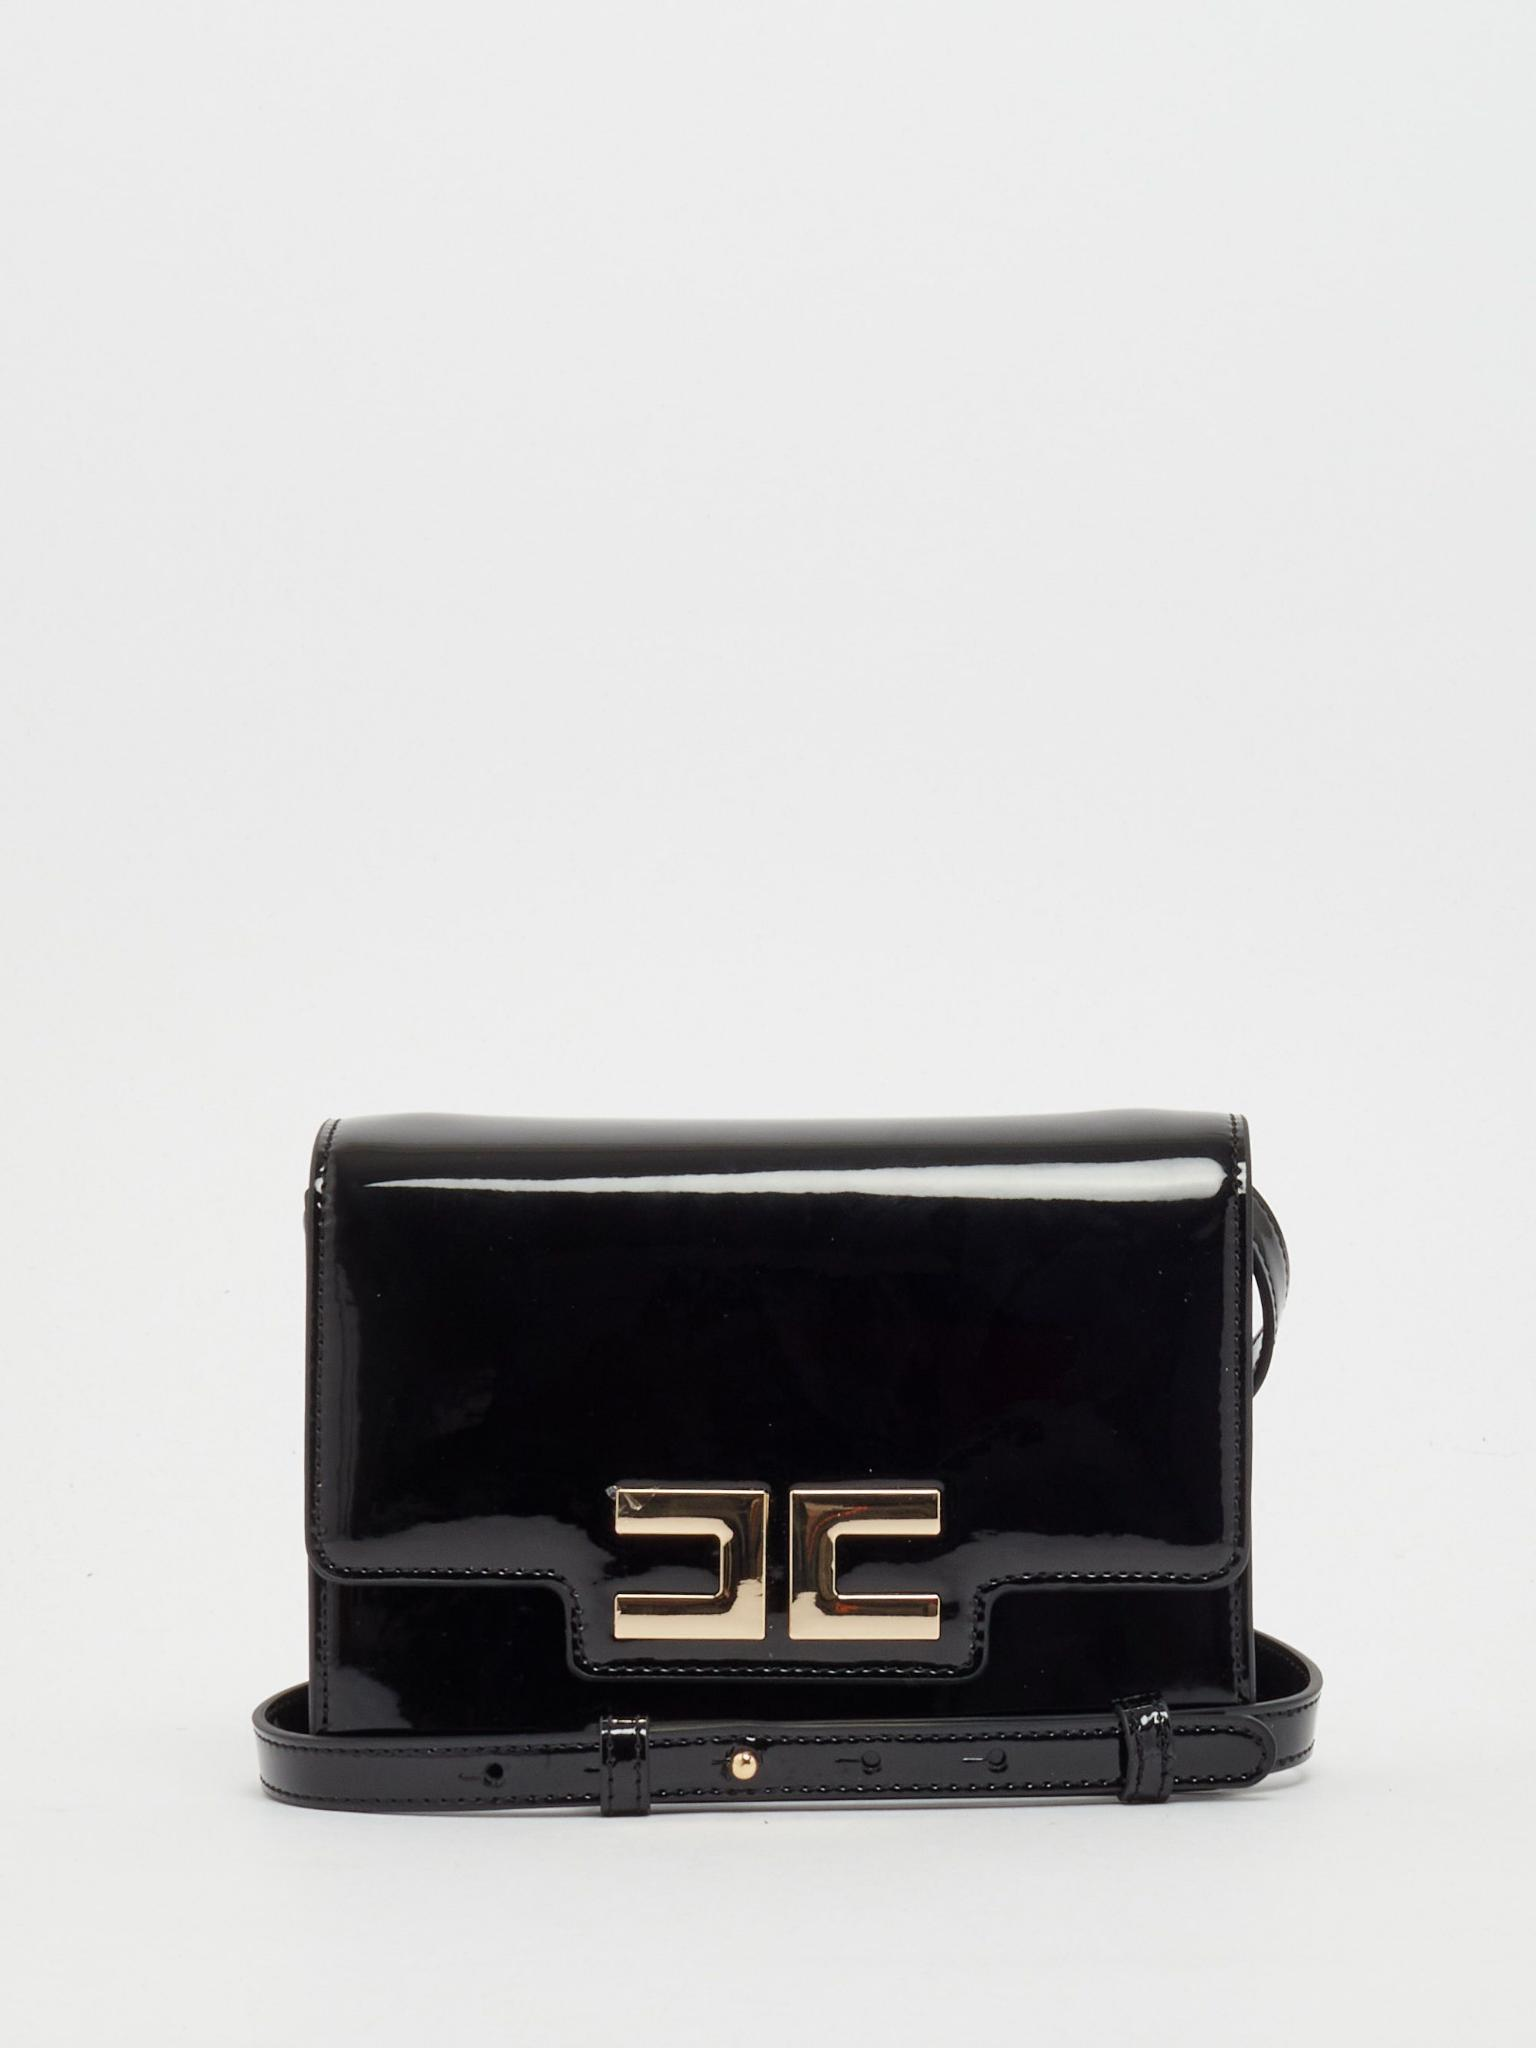ELISABETTA-FRANCHI: (579, 1447, 984, 1679)
